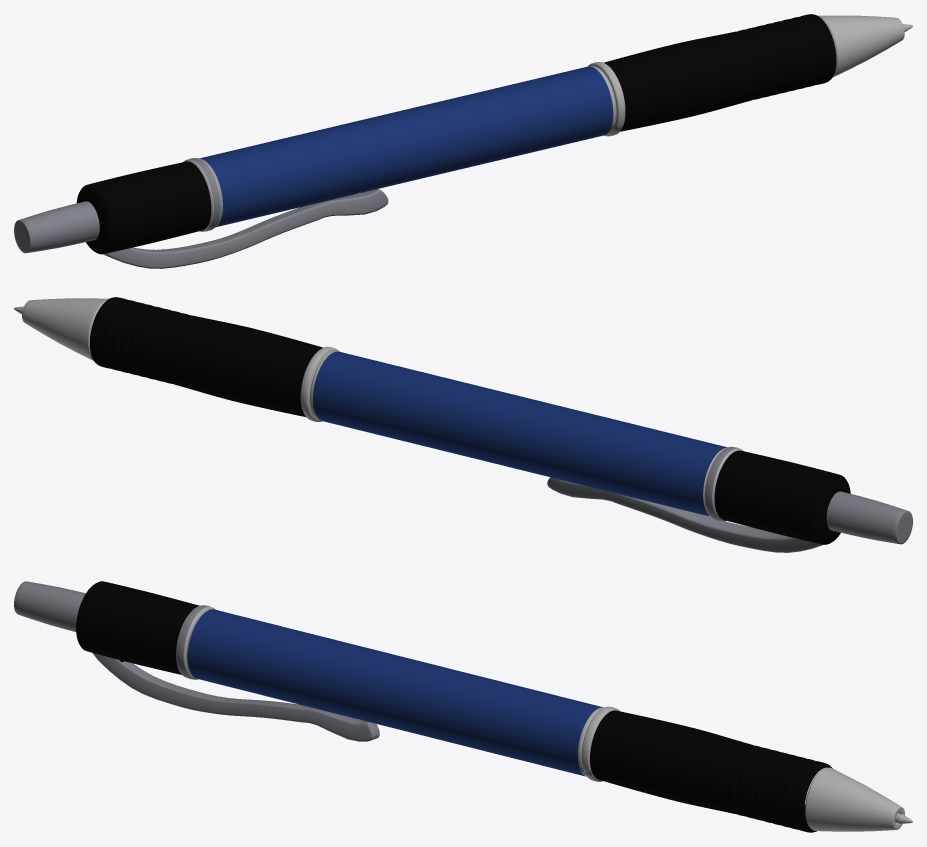
The model's file is Pen.fbx.
The picture shows the model from 3 angles, top to bottom: view 1: azimuth 30°, elevation 25°; view 2: azimuth 150°, elevation 25°; view 3: azimuth 330°, elevation 25°; orthographic projection.
Visible parts, largest first — view 1: Pen:Mesh; view 2: Pen:Mesh; view 3: Pen:Mesh.
Boxes of the visible parts, x1,y1,x2,y2 form: Pen:Mesh: (14, 14, 912, 268); Pen:Mesh: (14, 297, 912, 552); Pen:Mesh: (14, 581, 912, 832).
Bounding box in the file's own units: 9.48 × 0.9736 × 0.7359.
